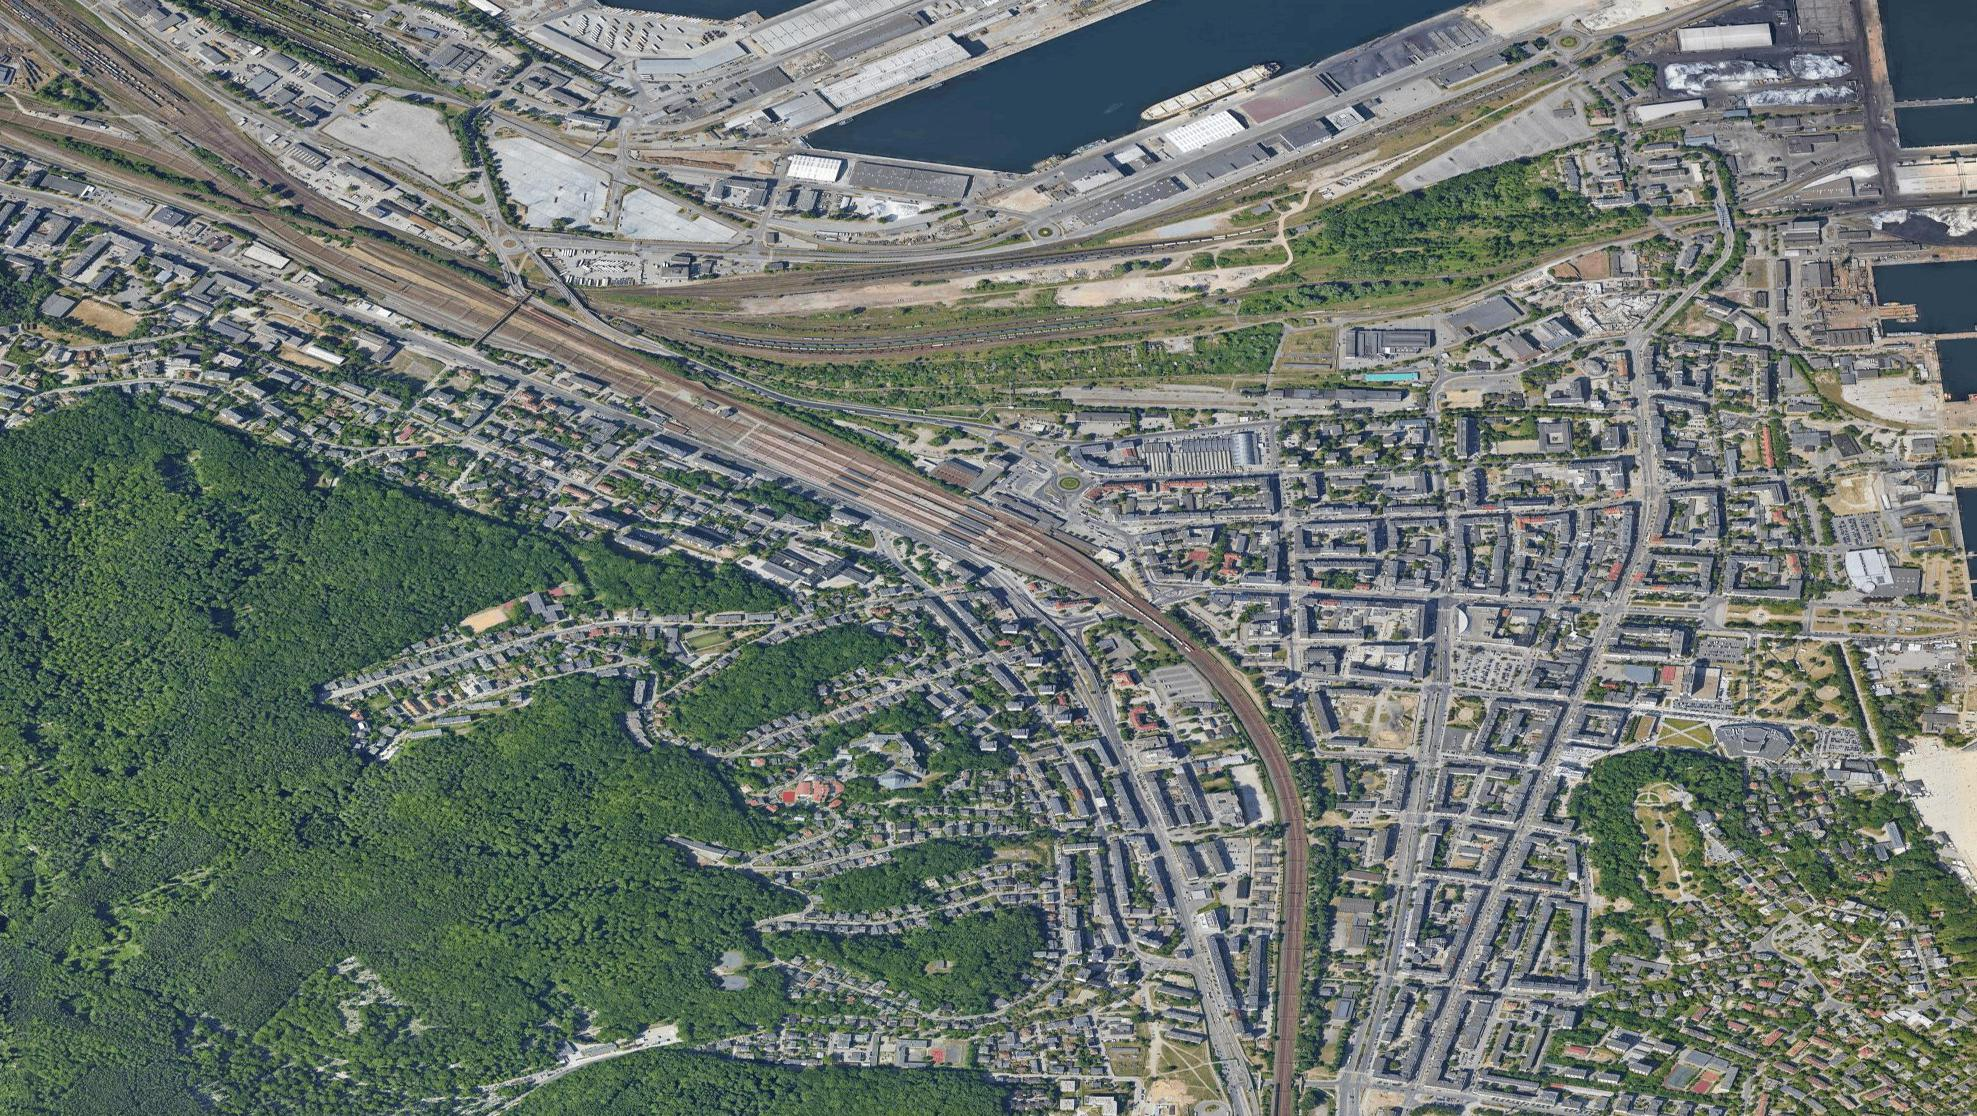harbor: (779, 1, 1510, 189), (1847, 1, 1977, 413)
train_station: (798, 422, 1074, 600)
